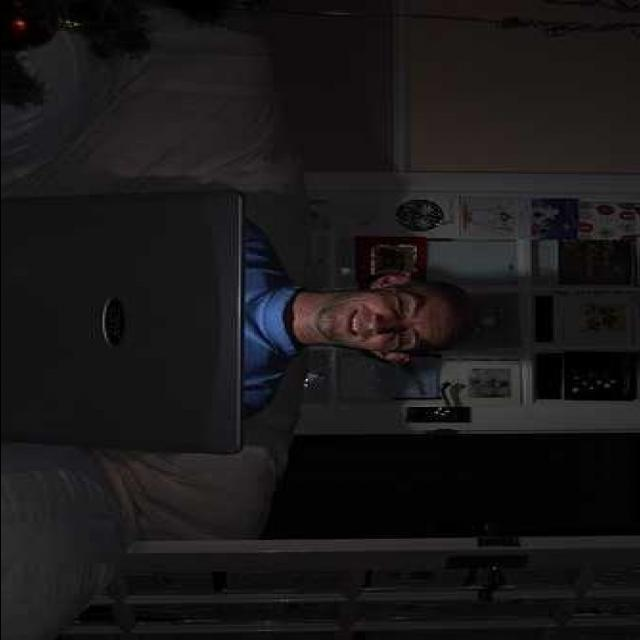laptop: (0, 180, 245, 458)
